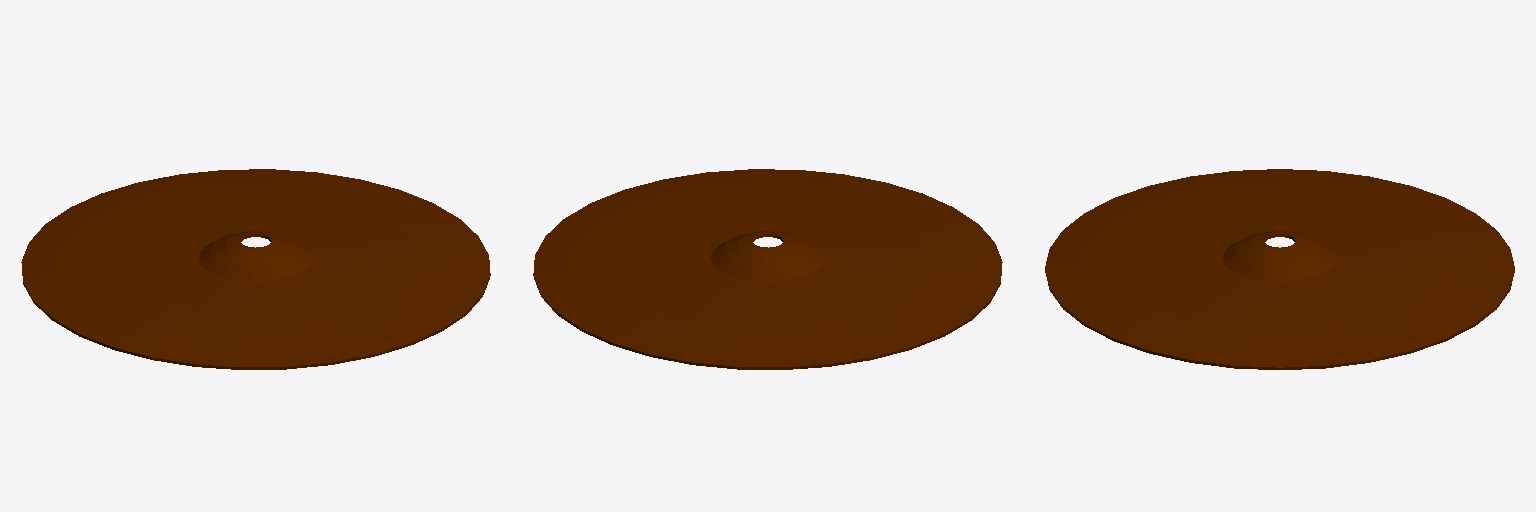
Rendered from Cymbal.obj.
3 renders of one model, left to right at view 1: azimuth 30°, elevation 25°; view 2: azimuth 150°, elevation 25°; view 3: azimuth 270°, elevation 25°, orthographic.
Visible parts, largest first — view 1: Sphere; view 2: Sphere; view 3: Sphere.
Boxes of the visible parts, x1=… form: Sphere: x1=21, y1=169, x2=490, y2=369; Sphere: x1=533, y1=169, x2=1002, y2=369; Sphere: x1=1045, y1=169, x2=1514, y2=369.
Bounding box in the file's own units: 0.3776 × 0.0268 × 0.3776.